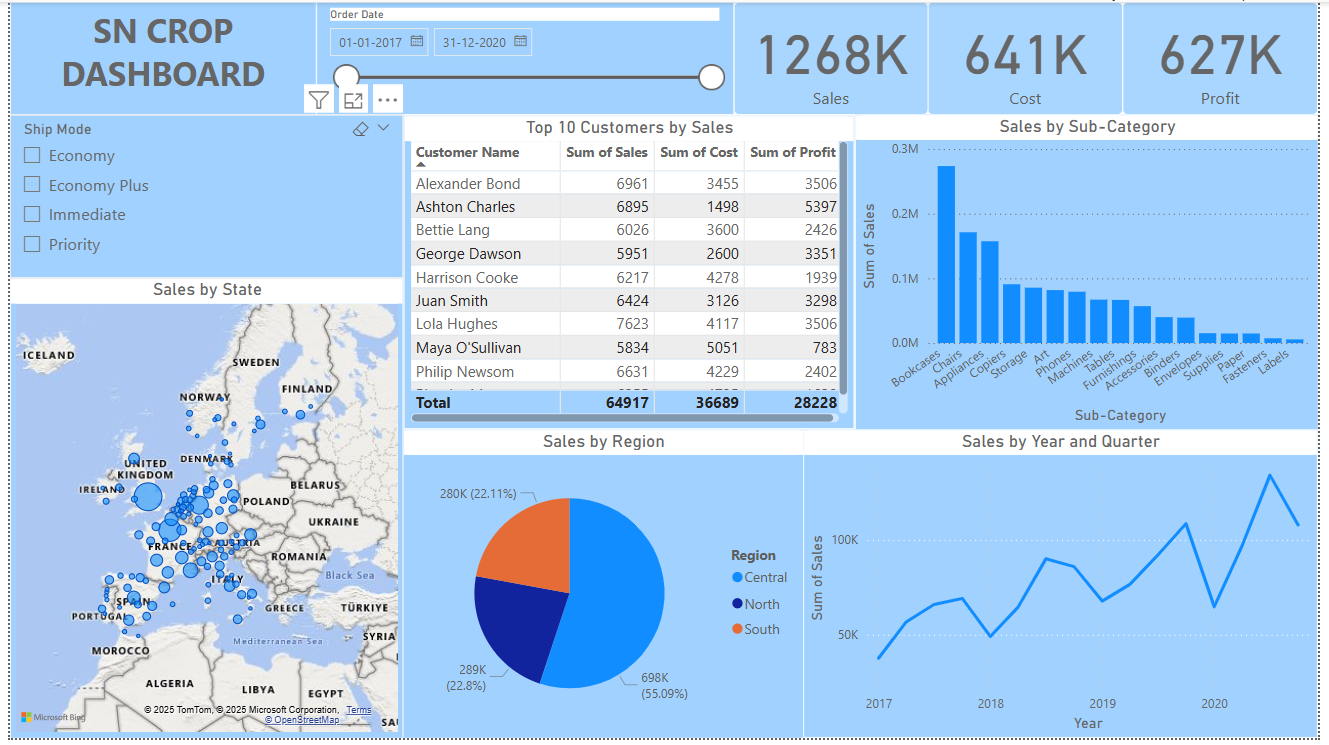

Layout of this report page (visuals, bound fields, positions):
{"tool":"powerbi","page":{"name":"Page 1","canvas":[1280,720],"ordinal":0},"visuals":[{"type":"card","fields":{"Values":["List of Orders.Profit"]},"box":[1088.8,0,191.2,110],"z":0},{"type":"card","fields":{"Values":["List of Orders.Cost"]},"box":[897.5,0,191.2,110],"z":1000},{"type":"card","fields":{"Values":["List of Orders.Sales"]},"box":[707.5,0,190,110],"z":2000},{"type":"textbox","box":[0,0,300,110],"z":3000},{"type":"tableEx","title":"Top 10 Customers by Sales","fields":{"Values":["List of Orders.Customer Name","List of Orders.Sales","List of Orders.Cost","List of Orders.Profit"]},"box":[385.6,111.1,440.5,306],"z":4000},{"type":"clusteredColumnChart","title":"Sales by Sub-Category","fields":{"Y":["List of Orders.Sales"],"Category":["List of Orders.Sub-Category"]},"box":[826.2,110,453.8,308.8],"z":5000},{"type":"lineChart","title":"Sales by Year and Quarter","fields":{"Y":["List of Orders.Sales"],"Category":["List of Orders.Order Date.Variation.Date Hierarchy.Year","List of Orders.Order Date.Variation.Date Hierarchy.Quarter"]},"box":[775.7,418.6,504.3,301.6],"z":6000},{"type":"pieChart","title":"Sales by Region","fields":{"Y":["List of Orders.Sales"],"Category":["List of Orders.Region"]},"box":[384,418.2,392.5,302],"z":7000},{"type":"map","title":"Sales by State","fields":{"Size":["List of Orders.Sales"],"Category":["List of Orders.State"]},"box":[0,270,385,450],"z":8000},{"type":"slicer","fields":{"Values":["List of Orders.Order Date"]},"box":[299.6,0,408.4,110.1],"z":9000},{"type":"slicer","fields":{"Values":["List of Orders.Ship Mode"]},"box":[0,110,385,160],"z":10000}]}

Visuals, with their boxes in screenshot pixels (x1, y1, x2, y2), scaled from the page's 1280x720 canvas onto the 1329x745 screenshot:
card - List of Orders.Profit: 1130/0/1328/114
card - List of Orders.Cost: 932/0/1130/114
card - List of Orders.Sales: 735/0/932/114
textbox: 0/0/311/114
"Top 10 Customers by Sales" tableEx: 400/115/858/432
"Sales by Sub-Category" clusteredColumnChart: 858/114/1328/433
"Sales by Year and Quarter" lineChart: 805/433/1328/744
"Sales by Region" pieChart: 399/433/806/744
"Sales by State" map: 0/279/400/744
slicer - List of Orders.Order Date: 311/0/735/114
slicer - List of Orders.Ship Mode: 0/114/400/279
